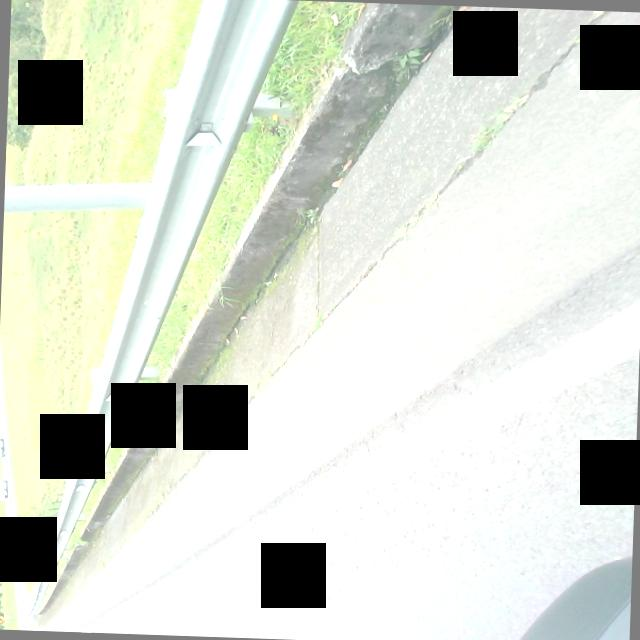DITCH: (28, 0, 640, 640), (26, 0, 640, 623)
